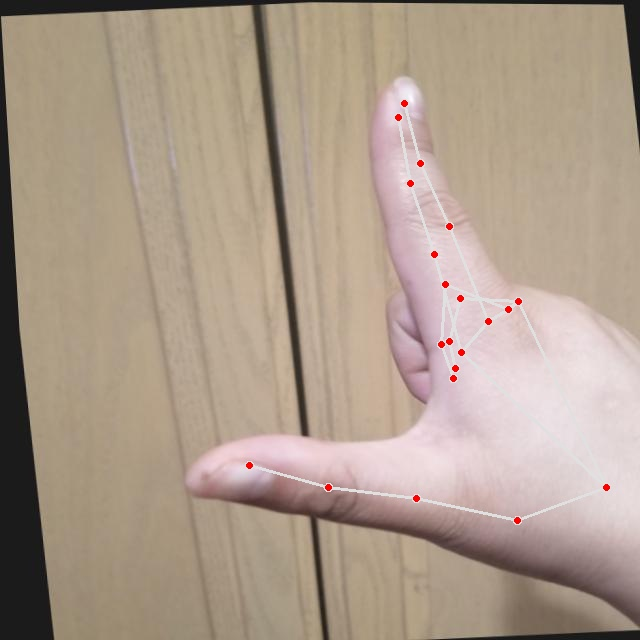L: (123, 51, 639, 632)
